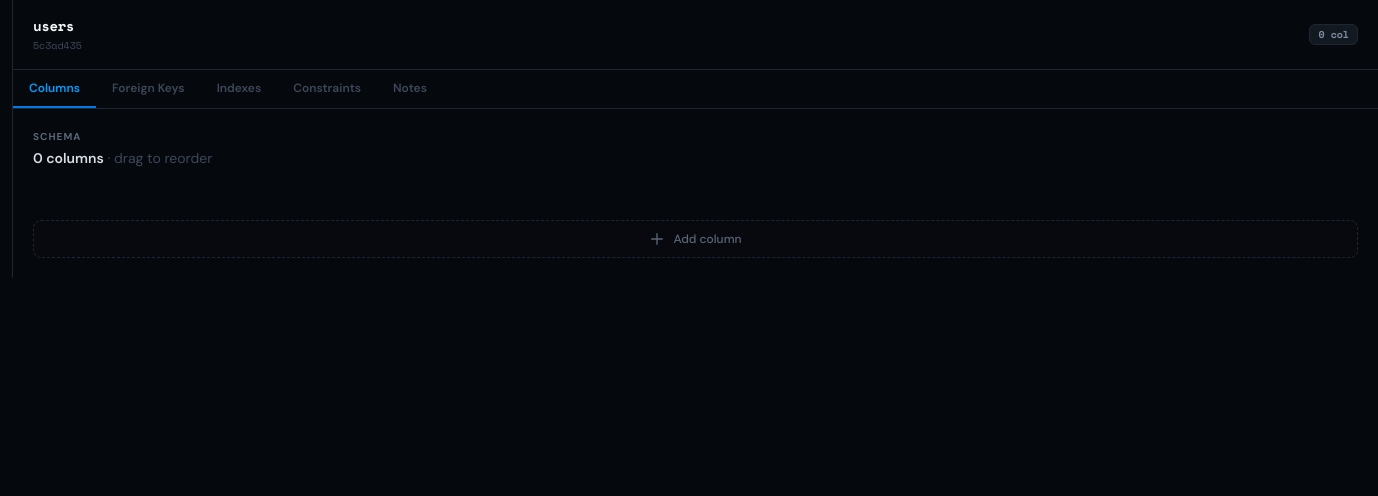
Test: DetailPanel.vue › shows notes textarea on notes tab
Click the button "Notes". click: coordinates (410, 89)
box: [377,70,443,108]
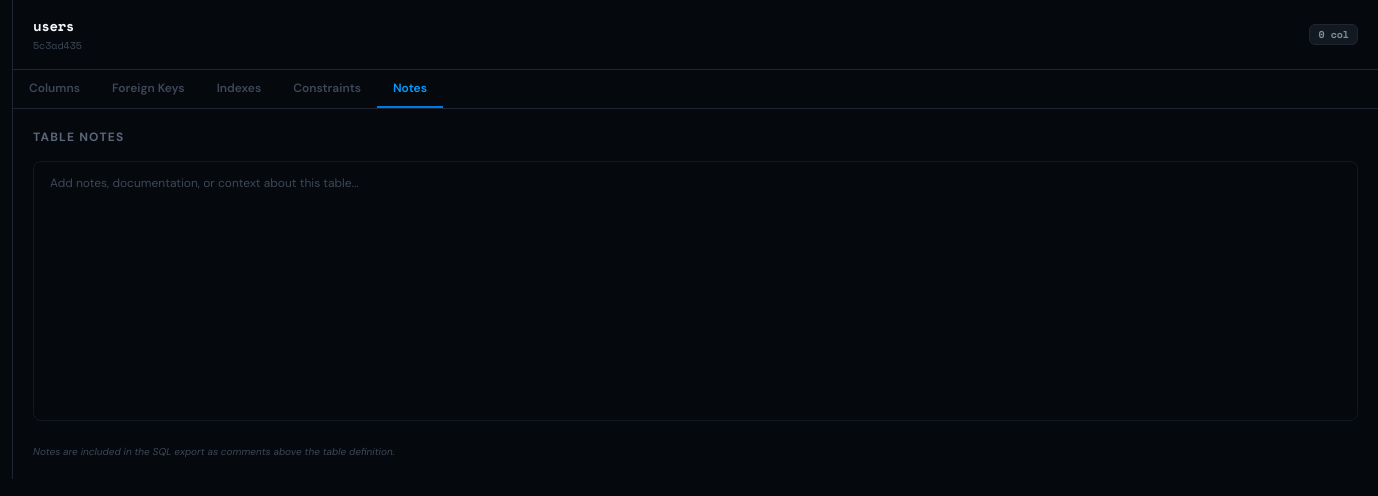
Expected: the text box with placeholder "Add notes, documentation, or context about this table..." is shown, [33,161,1358,421]
